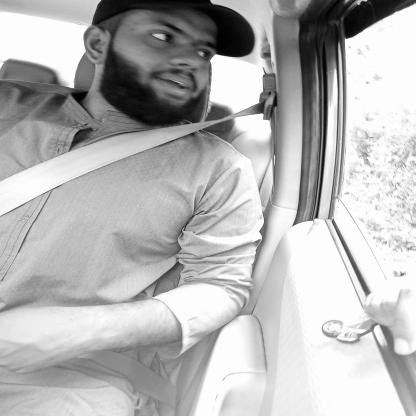seatbelt: (50, 0, 234, 269)
